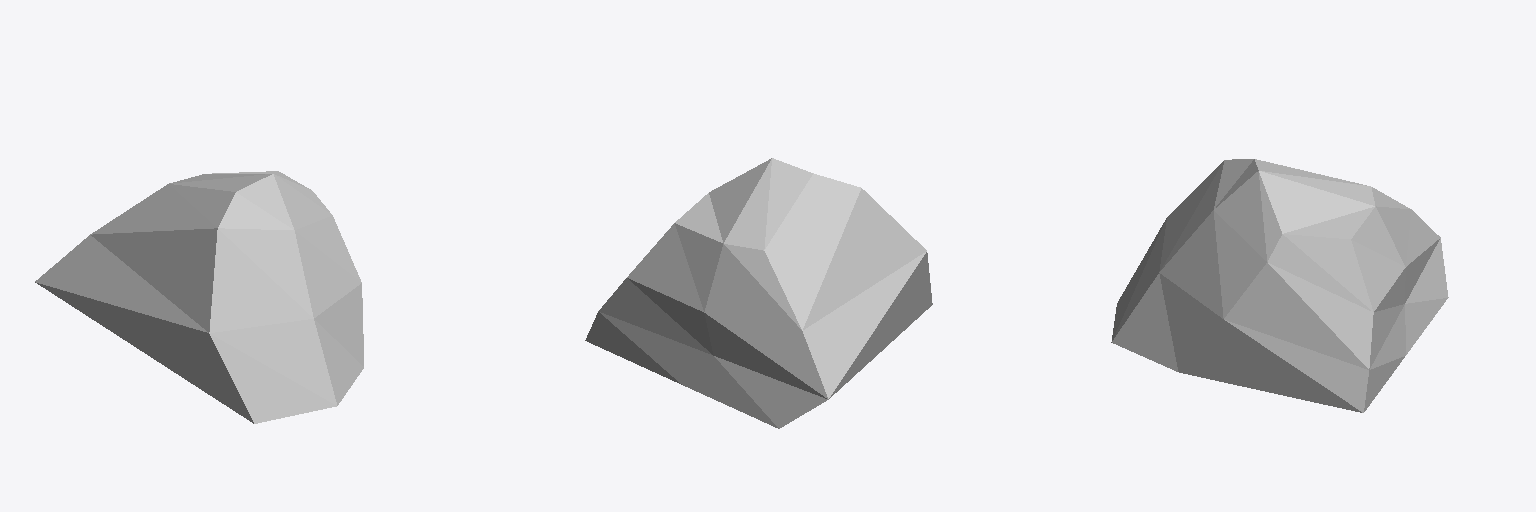
Rendered from rock2_0605.obj.
The picture shows the model from 3 angles: view 1: azimuth 30°, elevation 25°; view 2: azimuth 150°, elevation 25°; view 3: azimuth 270°, elevation 25°; orthographic projection.
Visible parts, largest first — view 1: Cube.001; view 2: Cube.001; view 3: Cube.001.
Part boxes in pixels (left/top/right/bottom): Cube.001: left=35, top=171, right=363, bottom=423; Cube.001: left=585, top=158, right=932, bottom=428; Cube.001: left=1111, top=159, right=1448, bottom=412.
Size of the model in its own units: 6.18 by 3.71 by 6.39.